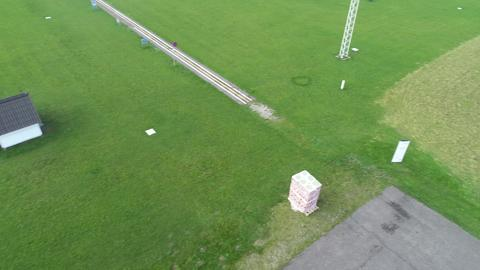RockwoolPallet: (288, 170, 323, 214)
